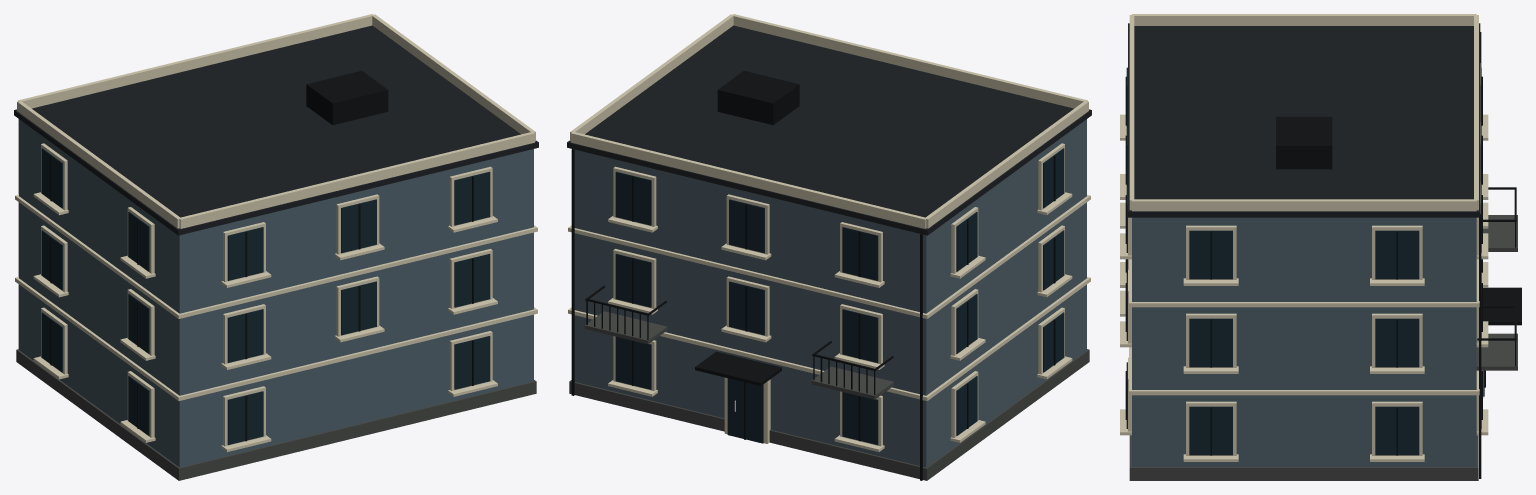
File: 17_SlateApartments.obj
The picture shows the model from 3 angles, left to right: view 1: azimuth 30°, elevation 25°; view 2: azimuth 150°, elevation 25°; view 3: azimuth 270°, elevation 25°; orthographic projection. The views are drawn at different scales.
Visible parts, largest first — view 1: Slate, Roof, Trim, Glass, Base, Metal; view 2: Slate, Roof, Trim, Glass, Metal, Base; view 3: Slate, Roof, Trim, Glass, Metal, Base.
Part boxes in pixels (x1,y1,x2,y2): Slate: (19, 119, 533, 467); Roof: (14, 25, 538, 235); Trim: (15, 14, 537, 451); Glass: (41, 148, 490, 444); Base: (16, 349, 536, 480); Metal: (18, 70, 473, 441); Slate: (574, 119, 1086, 467); Roof: (567, 25, 1091, 235); Trim: (568, 14, 1090, 451); Glass: (615, 148, 1064, 444); Metal: (571, 70, 1055, 480); Base: (569, 311, 1089, 480); Slate: (1132, 217, 1476, 466); Roof: (1128, 23, 1480, 217); Trim: (1120, 14, 1488, 461); Glass: (1126, 67, 1484, 455); Metal: (1125, 32, 1521, 478); Base: (1129, 215, 1517, 480).
Size of the model in its own units: 14.76 by 10.32 by 12.83.
